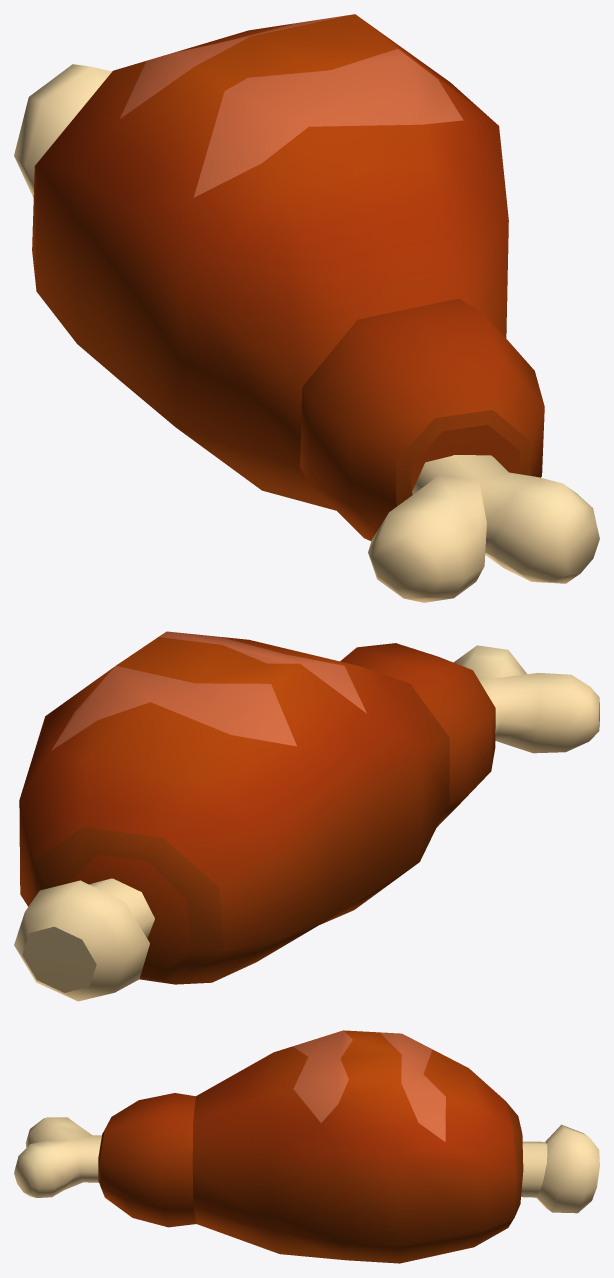
The model's file is Meat_3_B.glb.
3 renders of one model, top to bottom at view 1: azimuth 30°, elevation 25°; view 2: azimuth 150°, elevation 25°; view 3: azimuth 270°, elevation 25°, orthographic. The views are drawn at different scales.
Visible parts, largest first — view 1: Meat_3_B; view 2: Meat_3_B; view 3: Meat_3_B.
Part boxes in pixels (x1=…): Meat_3_B: x1=14, y1=14, x2=599, y2=602; Meat_3_B: x1=14, y1=631, x2=599, y2=1001; Meat_3_B: x1=14, y1=1030, x2=599, y2=1263.
Bounding box in the file's own units: 0.1387 × 0.1183 × 0.3311.
Materials: 1 (1 with a texture image).
